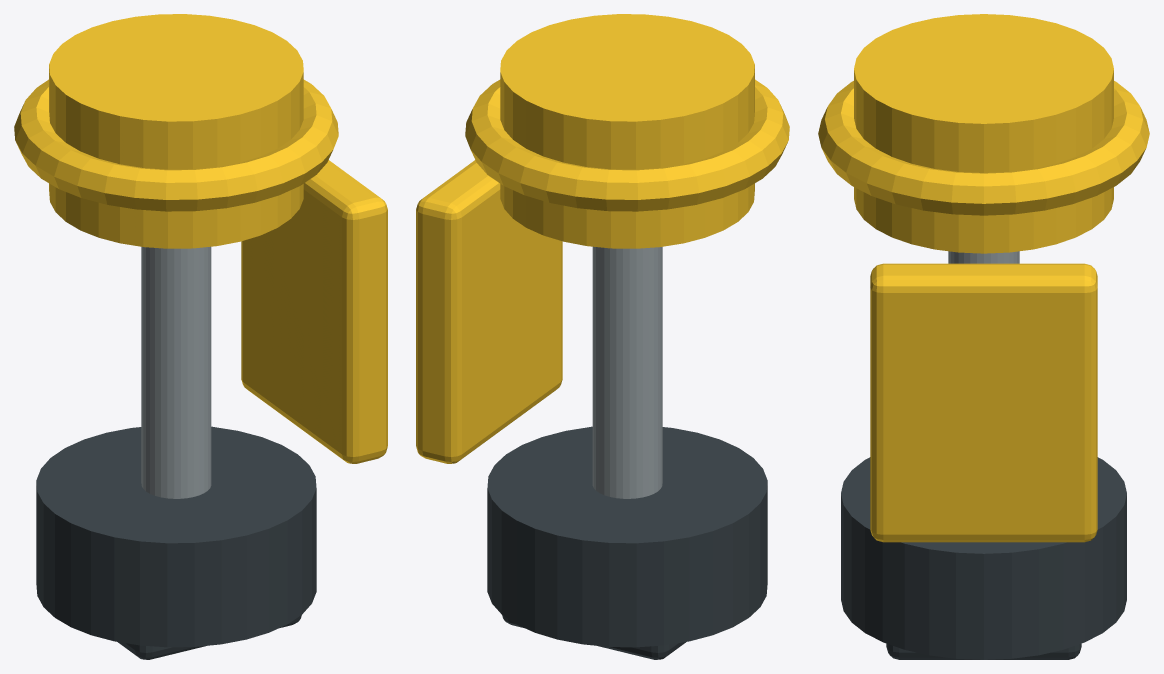
Rendered from beacon_variant_b.glb.
The picture shows the model from 3 angles, left to right: view 1: azimuth 30°, elevation 25°; view 2: azimuth 150°, elevation 25°; view 3: azimuth 270°, elevation 25°; orthographic projection.
Visible parts, largest first — view 1: Beacon base, Beacon lamp, Reinforced side armor, Beacon mast, Lamp guard, Mounting magnet; view 2: Beacon base, Beacon lamp, Reinforced side armor, Beacon mast, Lamp guard, Mounting magnet; view 3: Reinforced side armor, Beacon lamp, Beacon base, Lamp guard, Mounting magnet, Beacon mast.
Boxes of the visible parts, x1,y1,x2,y2 form: Beacon base: (36,426,316,647); Beacon lamp: (49,14,303,248); Reinforced side armor: (241,160,387,463); Beacon mast: (141,246,211,498); Lamp guard: (14,79,338,211); Mounting magnet: (118,615,301,659); Beacon base: (487,426,767,647); Beacon lamp: (500,14,754,248); Reinforced side armor: (416,160,562,463); Beacon mast: (592,246,662,498); Lamp guard: (465,79,789,211); Mounting magnet: (502,615,685,659); Reinforced side armor: (870,263,1097,542); Beacon lamp: (854,14,1113,253); Beacon base: (841,457,1126,659); Lamp guard: (818,81,1149,215); Mounting magnet: (886,643,1081,659); Beacon mast: (948,251,1019,263).
Size of what is drawn, in the model's own units: 0.545 by 0.94 by 0.51.
